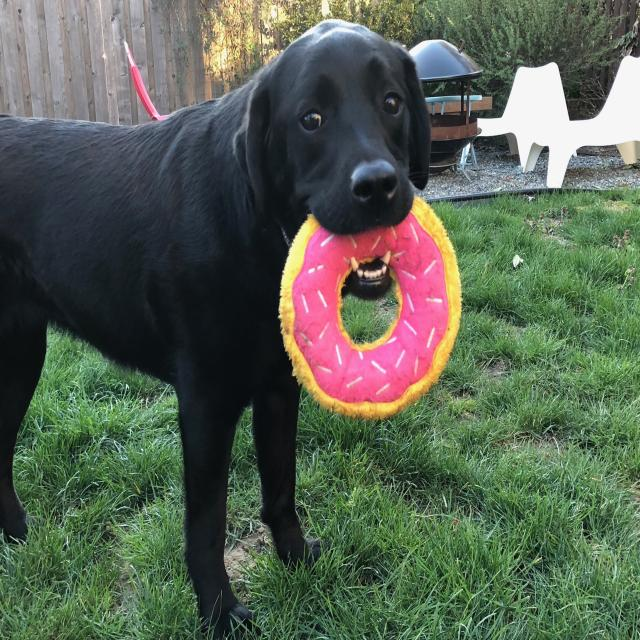Dog: (0, 17, 466, 640)
